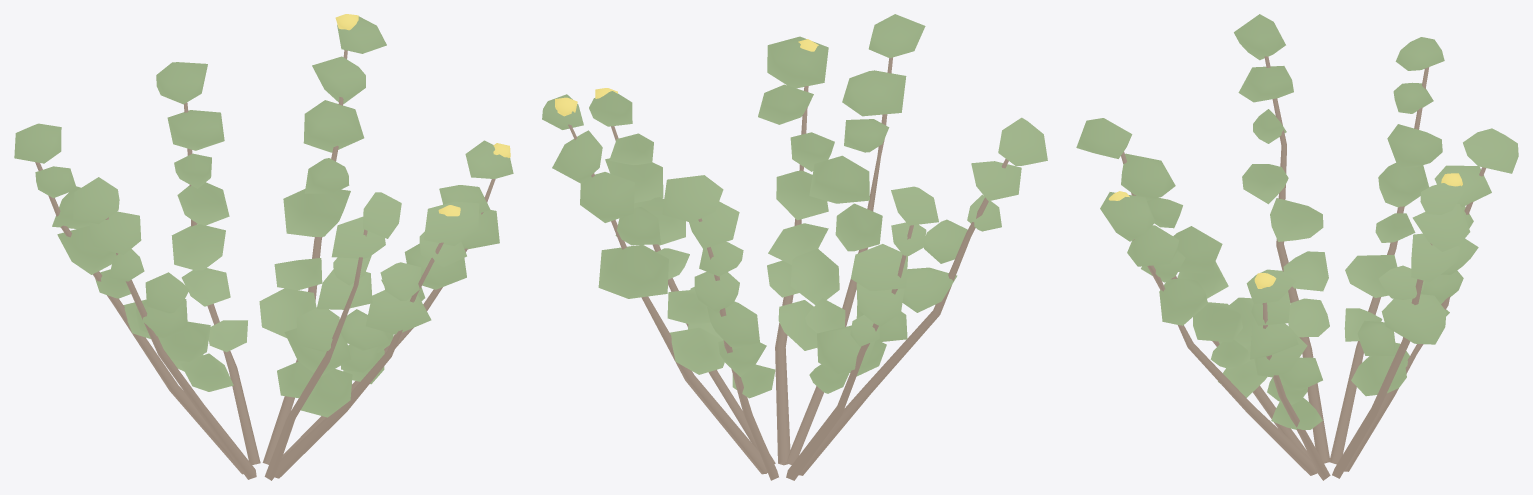
The model's file is Blender_Creosote_2.glb.
3 views of the same model, side by side, from view 1: azimuth 30°, elevation 25°; view 2: azimuth 150°, elevation 25°; view 3: azimuth 270°, elevation 25° (orthographic). The views are drawn at different scales.
Parts seen in each view (by area): view 1: Blender_Creosote_2; view 2: Blender_Creosote_2; view 3: Blender_Creosote_2.
Boxes of the visible parts, x1=… form: Blender_Creosote_2: x1=14, y1=14, x2=513, y2=480; Blender_Creosote_2: x1=542, y1=14, x2=1047, y2=480; Blender_Creosote_2: x1=1076, y1=14, x2=1518, y2=480.
Size of the model in its own units: 1.78 by 1.46 by 1.58.
